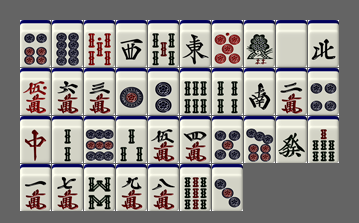0m: (20, 68, 51, 115)
0p: (212, 20, 243, 67)
0s: (84, 20, 115, 67)
1m: (20, 164, 51, 211)
1p: (116, 68, 147, 115)
1s: (244, 20, 275, 67)
1z: (180, 20, 211, 67)
2m: (276, 68, 307, 115)
2p: (148, 68, 179, 115)
2s: (52, 116, 83, 163)
2z: (244, 68, 275, 115)
3m: (84, 68, 115, 115)
3p: (212, 164, 243, 211)
3s: (116, 116, 147, 163)
3z: (116, 20, 147, 67)
4m: (180, 116, 211, 163)
4p: (308, 68, 339, 115)
4s: (212, 68, 243, 115)
4z: (308, 20, 339, 67)
5m: (148, 116, 179, 163)
5p: (212, 116, 243, 163)
5s: (148, 20, 179, 67)
5z: (276, 20, 307, 67)
6m: (52, 68, 83, 115)
6p: (20, 20, 51, 67)
6s: (180, 68, 211, 115)
6z: (276, 116, 307, 163)
7m: (52, 164, 83, 211)
7p: (244, 116, 275, 163)
7s: (308, 116, 339, 163)
7z: (20, 116, 51, 163)
8m: (148, 164, 179, 211)
8p: (52, 20, 83, 67)
8s: (84, 164, 115, 211)
9m: (116, 164, 147, 211)
9p: (84, 116, 115, 163)
9s: (180, 164, 211, 211)
